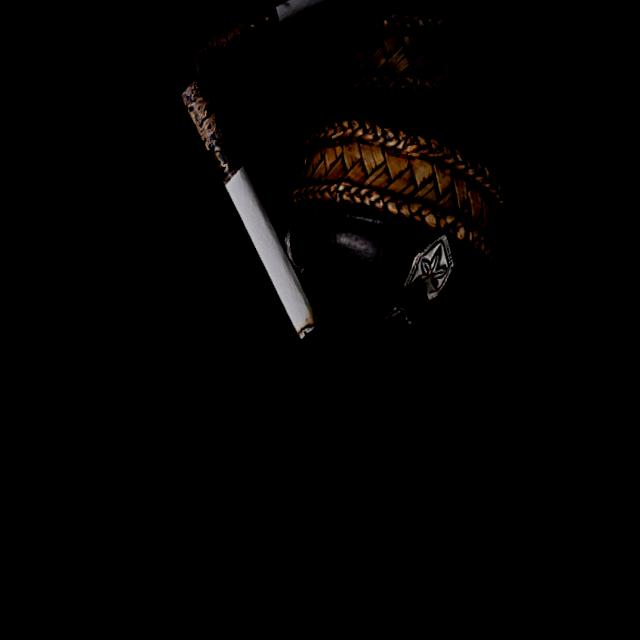smoke: (133, 68, 371, 340)
